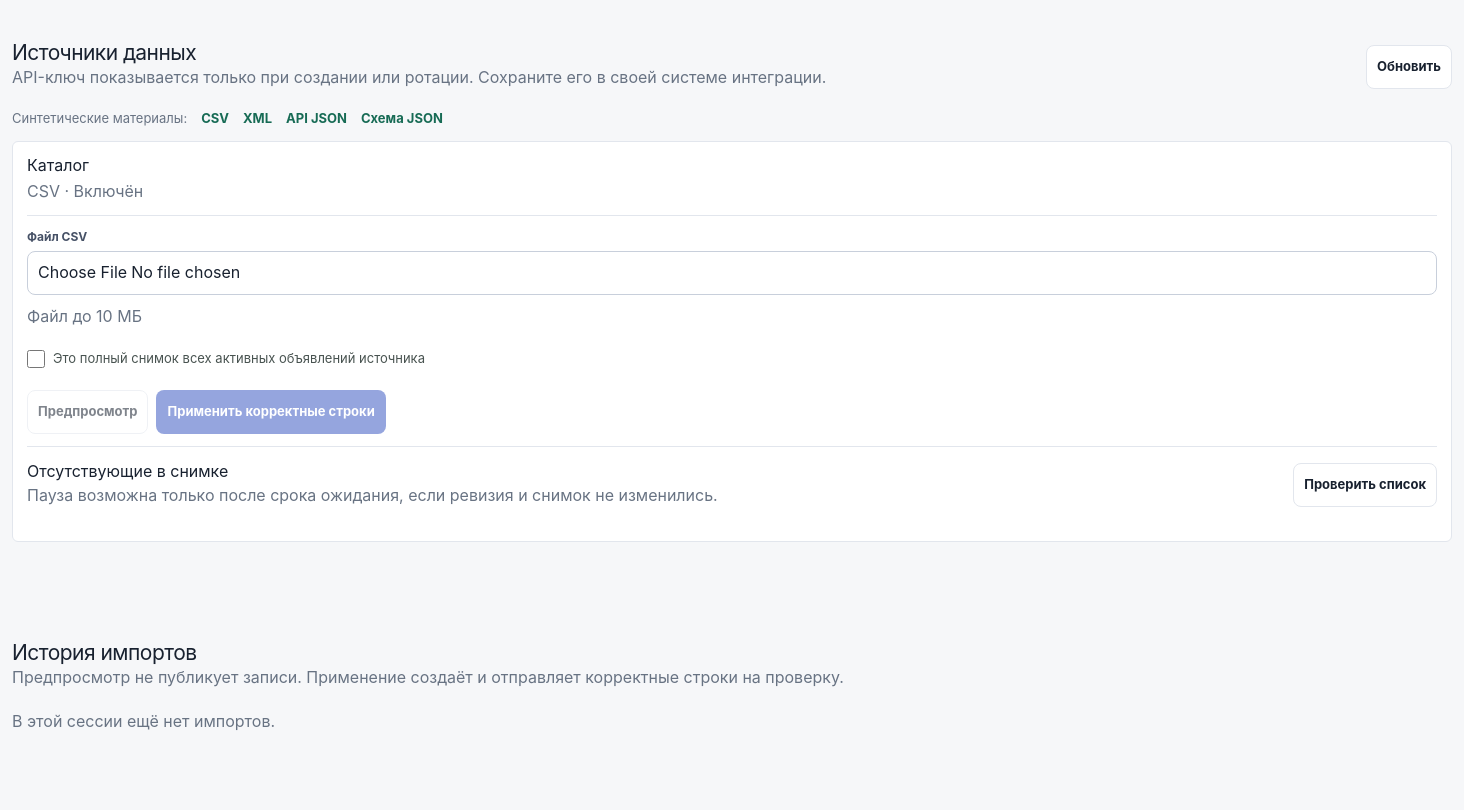
Test: dealer feeds › lets sellers import and read candidates without feed management or pause confirmation
This screenshot has width=1464, height=810.
Check: the file field labelled "Файл CSV" is shown, box [27,251,1437,295]
Click the button "Проверить список": (1365, 485) [1293,463,1437,507]
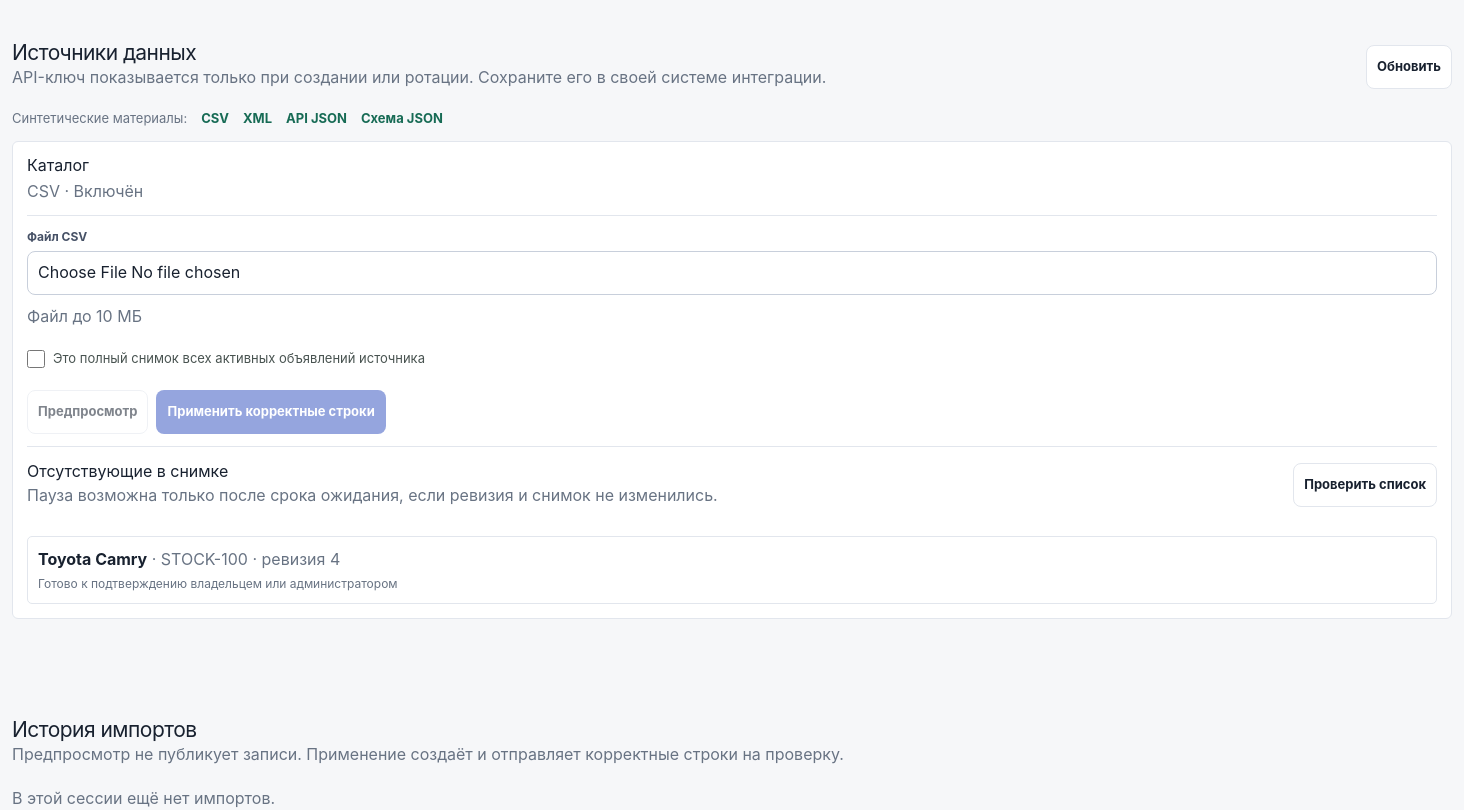
Check: the text "STOCK-100" is shown, box [161,549,248,569]
